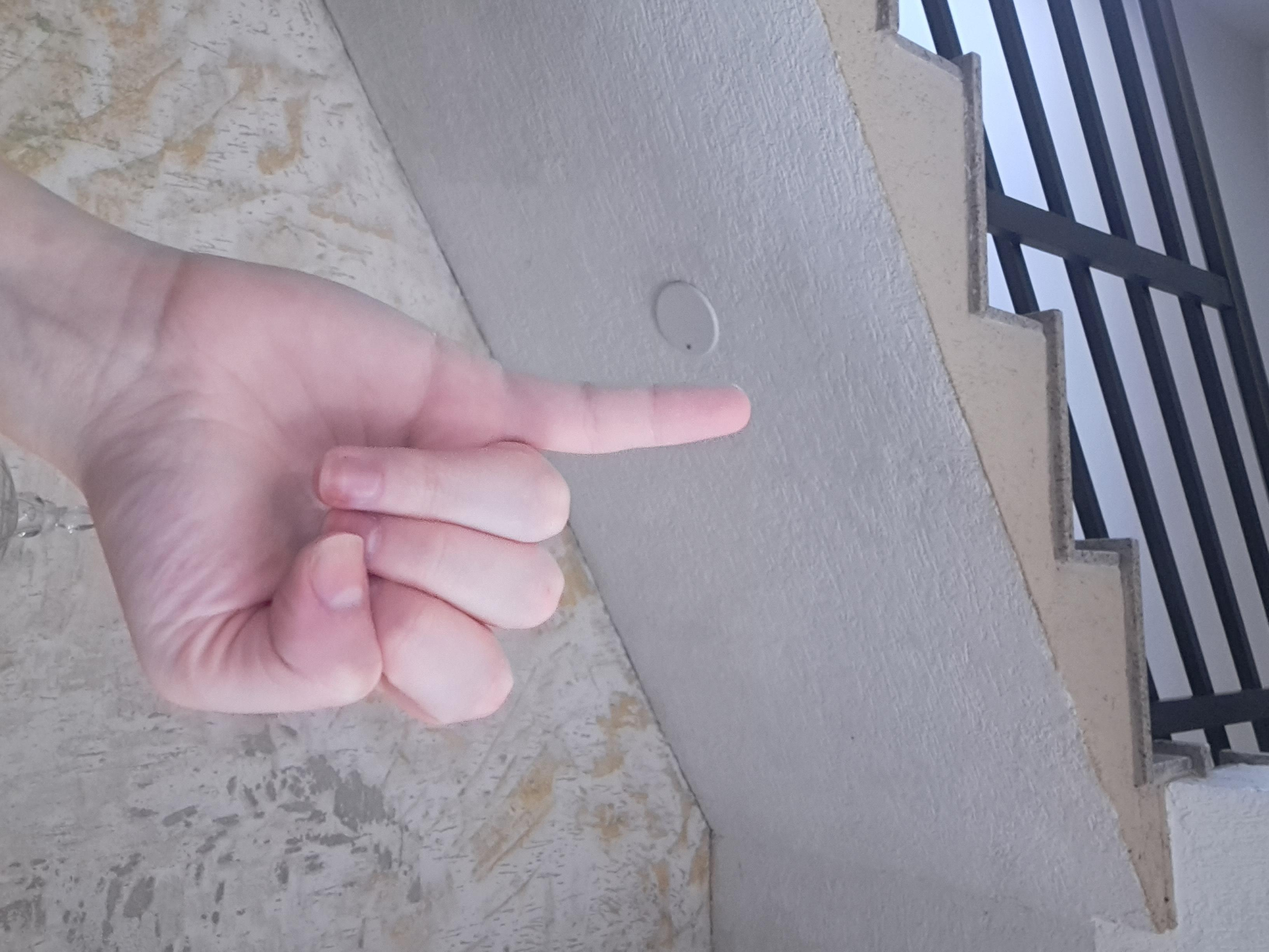I: (311, 382, 980, 898)
